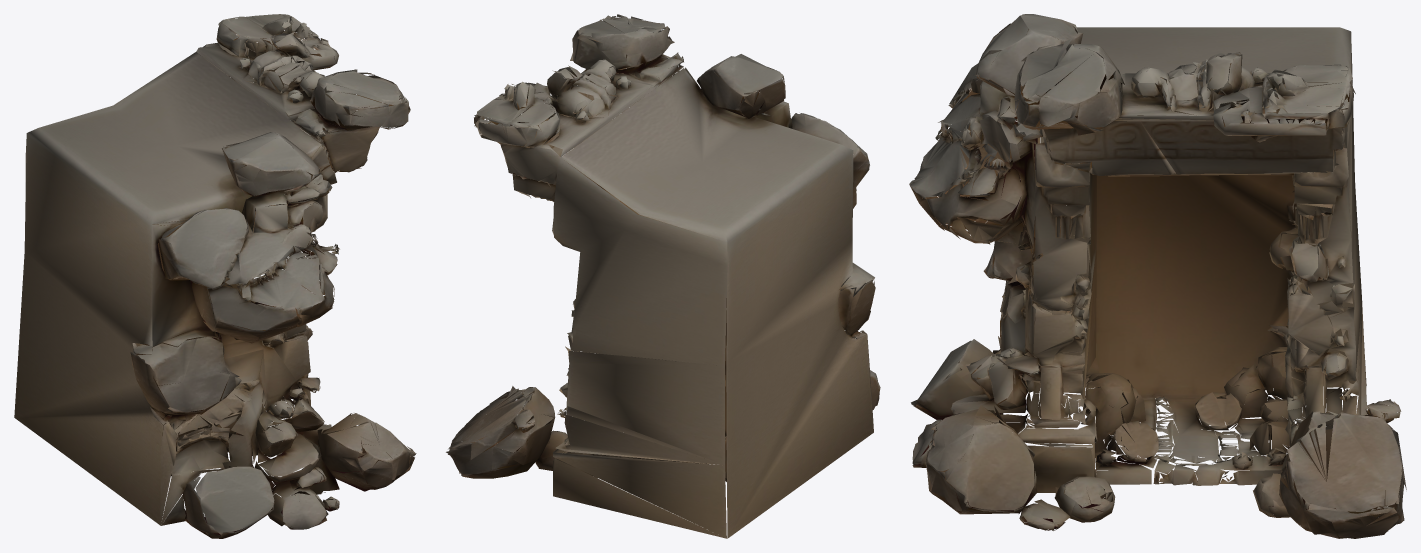
The model's file is fin_collapsed_cave_exit_LOD1.glb.
The picture shows the model from 3 angles, left to right: view 1: azimuth 30°, elevation 25°; view 2: azimuth 150°, elevation 25°; view 3: azimuth 270°, elevation 25°; orthographic projection. The views are drawn at different scales.
Parts seen in each view (by area): view 1: tripo_node_e22f4373-47d0-40c1-ba41-8e5068f57354; view 2: tripo_node_e22f4373-47d0-40c1-ba41-8e5068f57354; view 3: tripo_node_e22f4373-47d0-40c1-ba41-8e5068f57354.
Boxes of the visible parts, bbox=[...] form: tripo_node_e22f4373-47d0-40c1-ba41-8e5068f57354: bbox=[14, 14, 416, 538]; tripo_node_e22f4373-47d0-40c1-ba41-8e5068f57354: bbox=[446, 14, 880, 538]; tripo_node_e22f4373-47d0-40c1-ba41-8e5068f57354: bbox=[909, 14, 1406, 538].
Bounding box in the file's own units: 0.7996 × 1.01 × 0.9608.
1 material, 1 textured.
